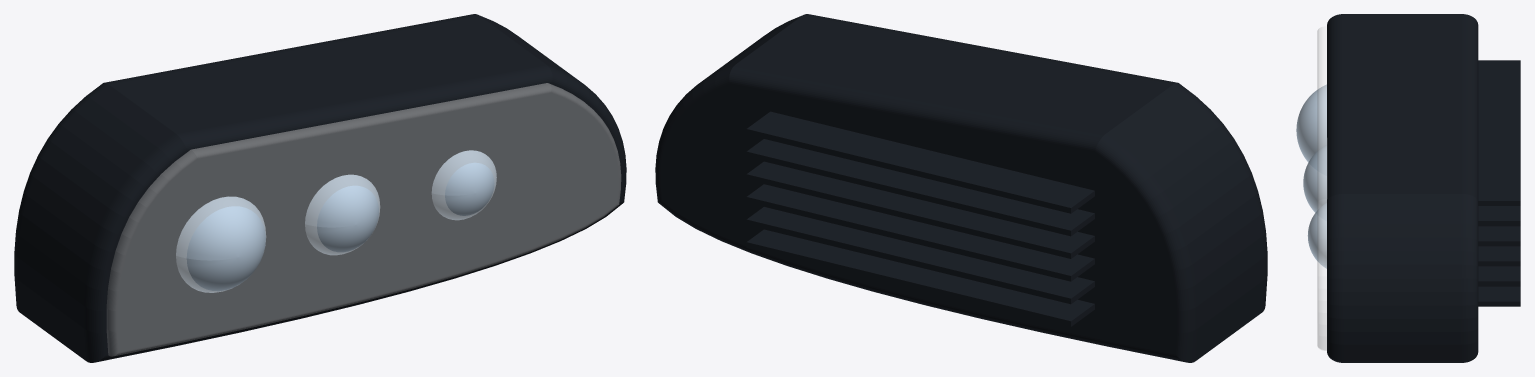
The model's file is farol_dianteiro_triplo.glb.
3 renders of one model, left to right at view 1: azimuth 30°, elevation 25°; view 2: azimuth 150°, elevation 25°; view 3: azimuth 270°, elevation 25°, orthographic. The views are drawn at different scales.
Visible parts, largest first — view 1: FarolTriploProjetor; view 2: FarolTriploProjetor; view 3: FarolTriploProjetor.
Boxes of the visible parts, bbox=[...] form: FarolTriploProjetor: bbox=[14, 14, 626, 362]; FarolTriploProjetor: bbox=[655, 14, 1267, 362]; FarolTriploProjetor: bbox=[1296, 14, 1520, 362].
Bounding box in the file's own units: 3.99 × 1.51 × 1.62.
